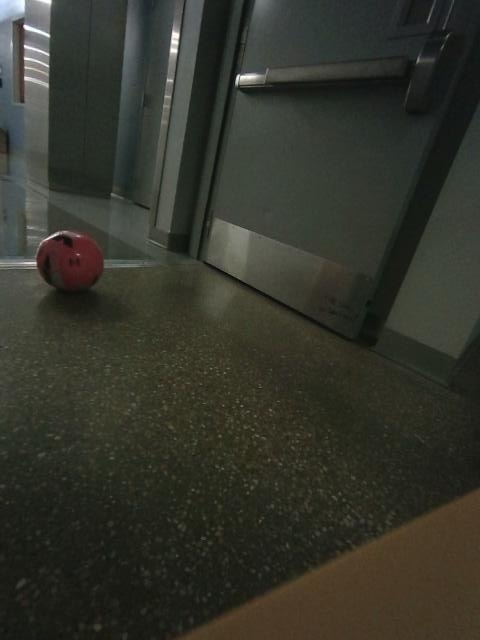ball: (36, 231, 103, 291)
